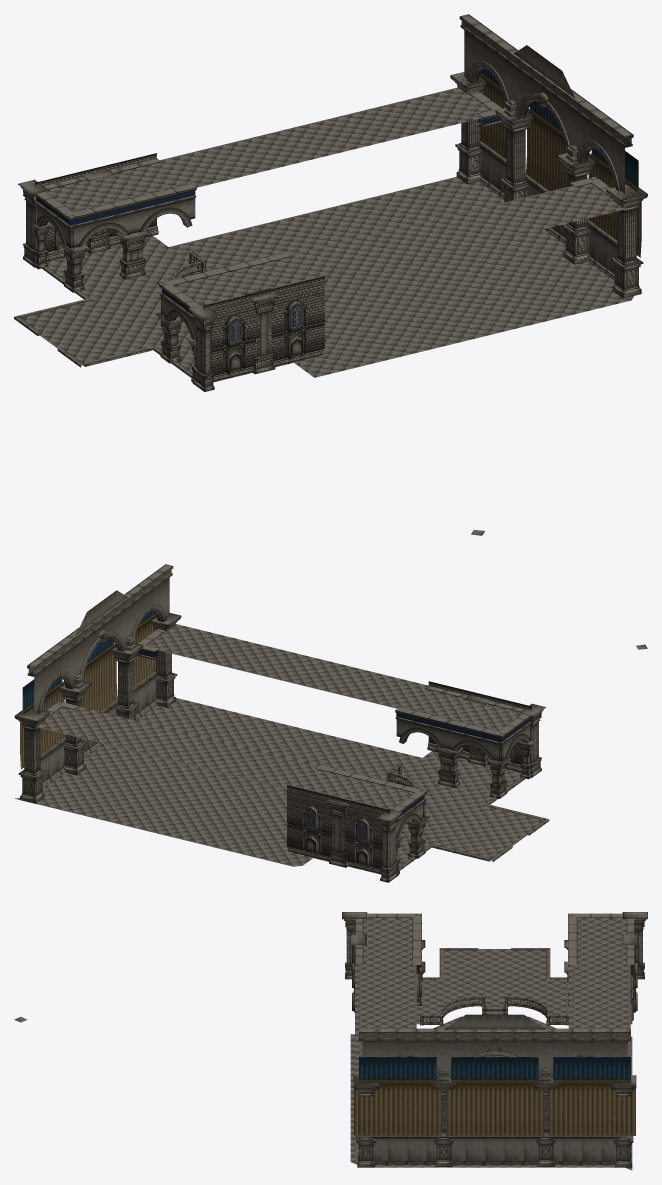
The model's file is EnvBdgMD_Courthouse_A_Indoor.FBX.
3 views of the same model, one above another, from view 1: azimuth 30°, elevation 25°; view 2: azimuth 150°, elevation 25°; view 3: azimuth 270°, elevation 25° (orthographic). The views are drawn at different scales.
Visible parts, largest first — view 1: EnvBdgMD_Courthouse_A_Indoor; view 2: EnvBdgMD_Courthouse_A_Indoor; view 3: EnvBdgMD_Courthouse_A_Indoor.
Part boxes in pixels (x1,y1,x2,y2): EnvBdgMD_Courthouse_A_Indoor: (14, 14, 647, 535); EnvBdgMD_Courthouse_A_Indoor: (14, 564, 647, 882); EnvBdgMD_Courthouse_A_Indoor: (14, 912, 647, 1170).
Size of the model in its own units: 5087 by 1675 by 6525.
